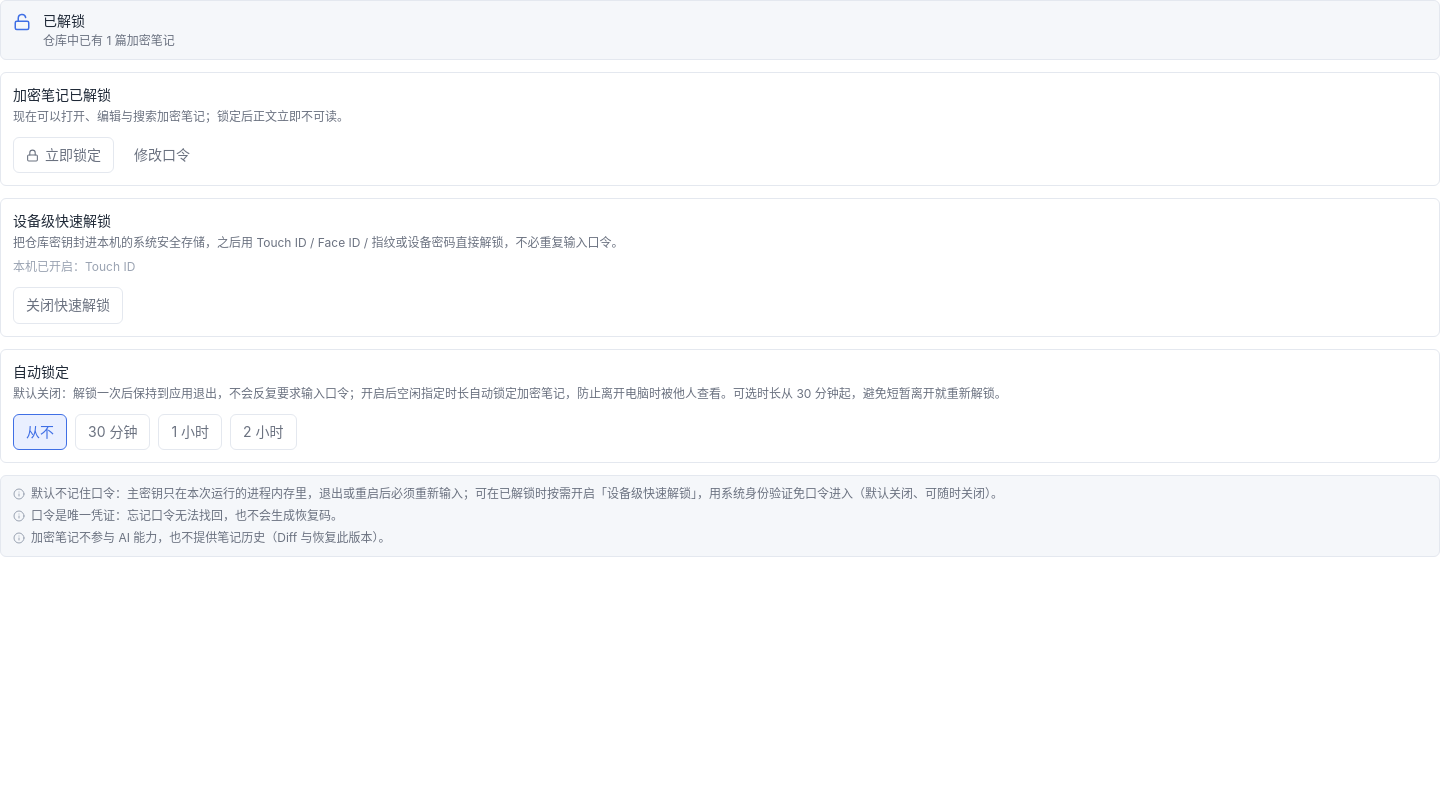
Test case: VaultSettings · 设备级快速解锁 › 用户主动锁定后不自动弹设备认证，避免刚锁上就被解开
Click the button "立即锁定": {"x": 64, "y": 155} 13,137 -> 114,173
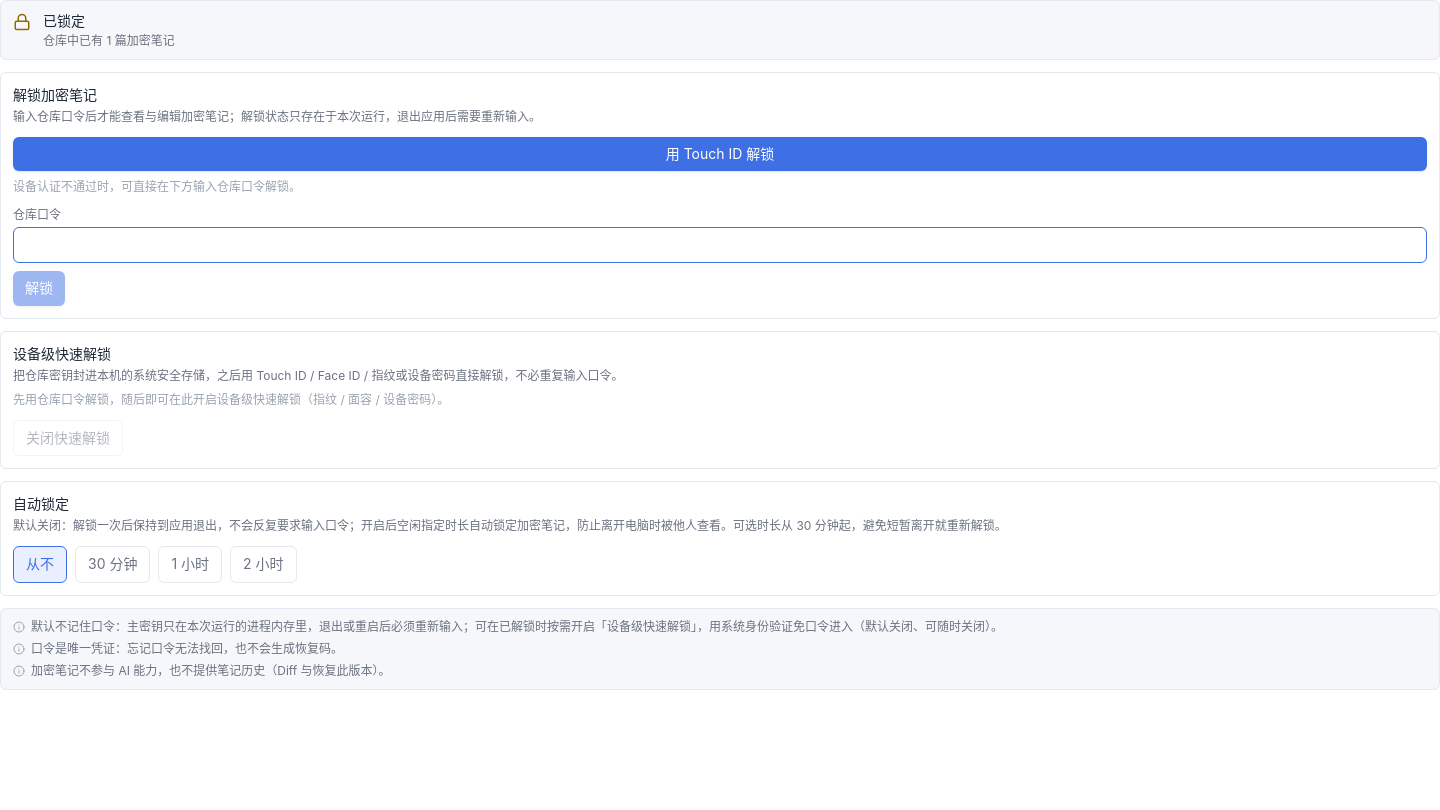
Expected: the button "用 Touch ID 解锁" is shown, 13,137 -> 1427,171
